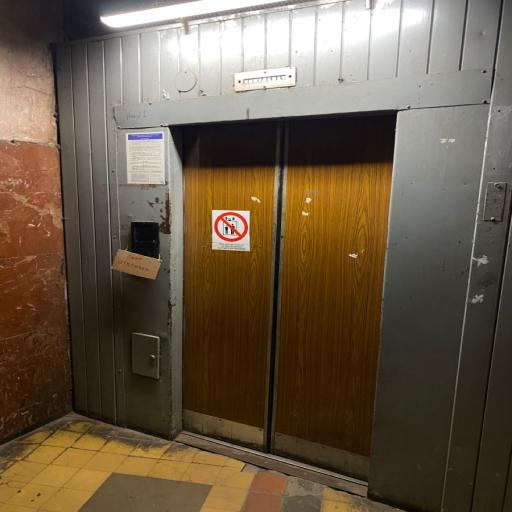closet: (184, 116, 396, 480)
